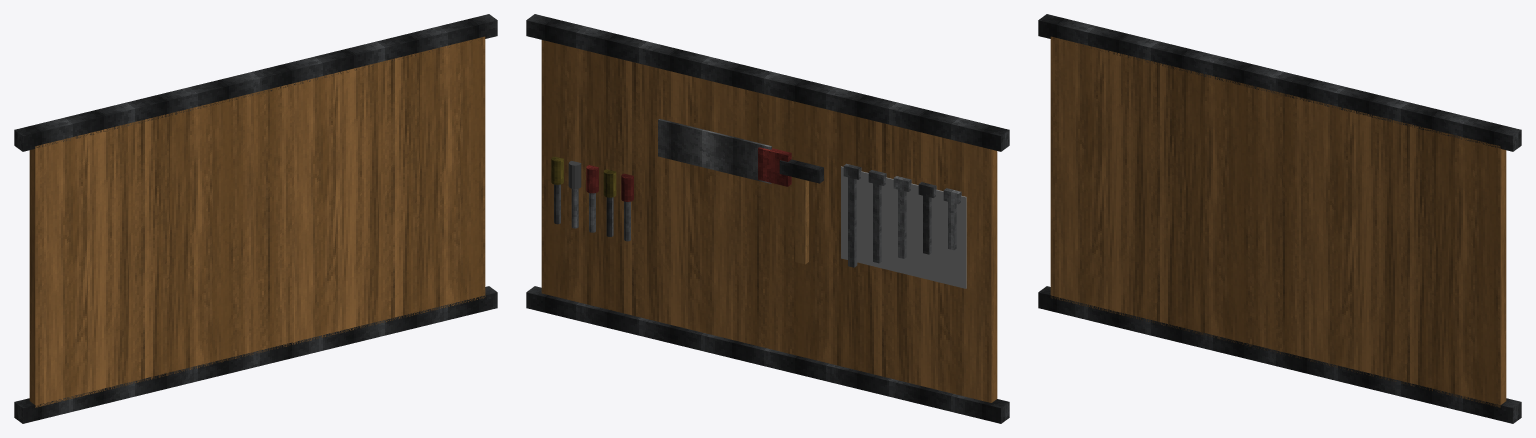
The model's file is tool_board.glb.
3 renders of one model, left to right at view 1: azimuth 30°, elevation 25°; view 2: azimuth 150°, elevation 25°; view 3: azimuth 330°, elevation 25°, orthographic.
Parts seen in each view (by area): view 1: tool_board; view 2: tool_board; view 3: tool_board.
Boxes of the visible parts, x1=… form: tool_board: x1=14, y1=14, x2=497, y2=423; tool_board: x1=526, y1=14, x2=1009, y2=423; tool_board: x1=1038, y1=14, x2=1521, y2=423.
Size of the model in its own units: 1.9 by 1.1 by 0.072.
8 materials, 6 textured.
